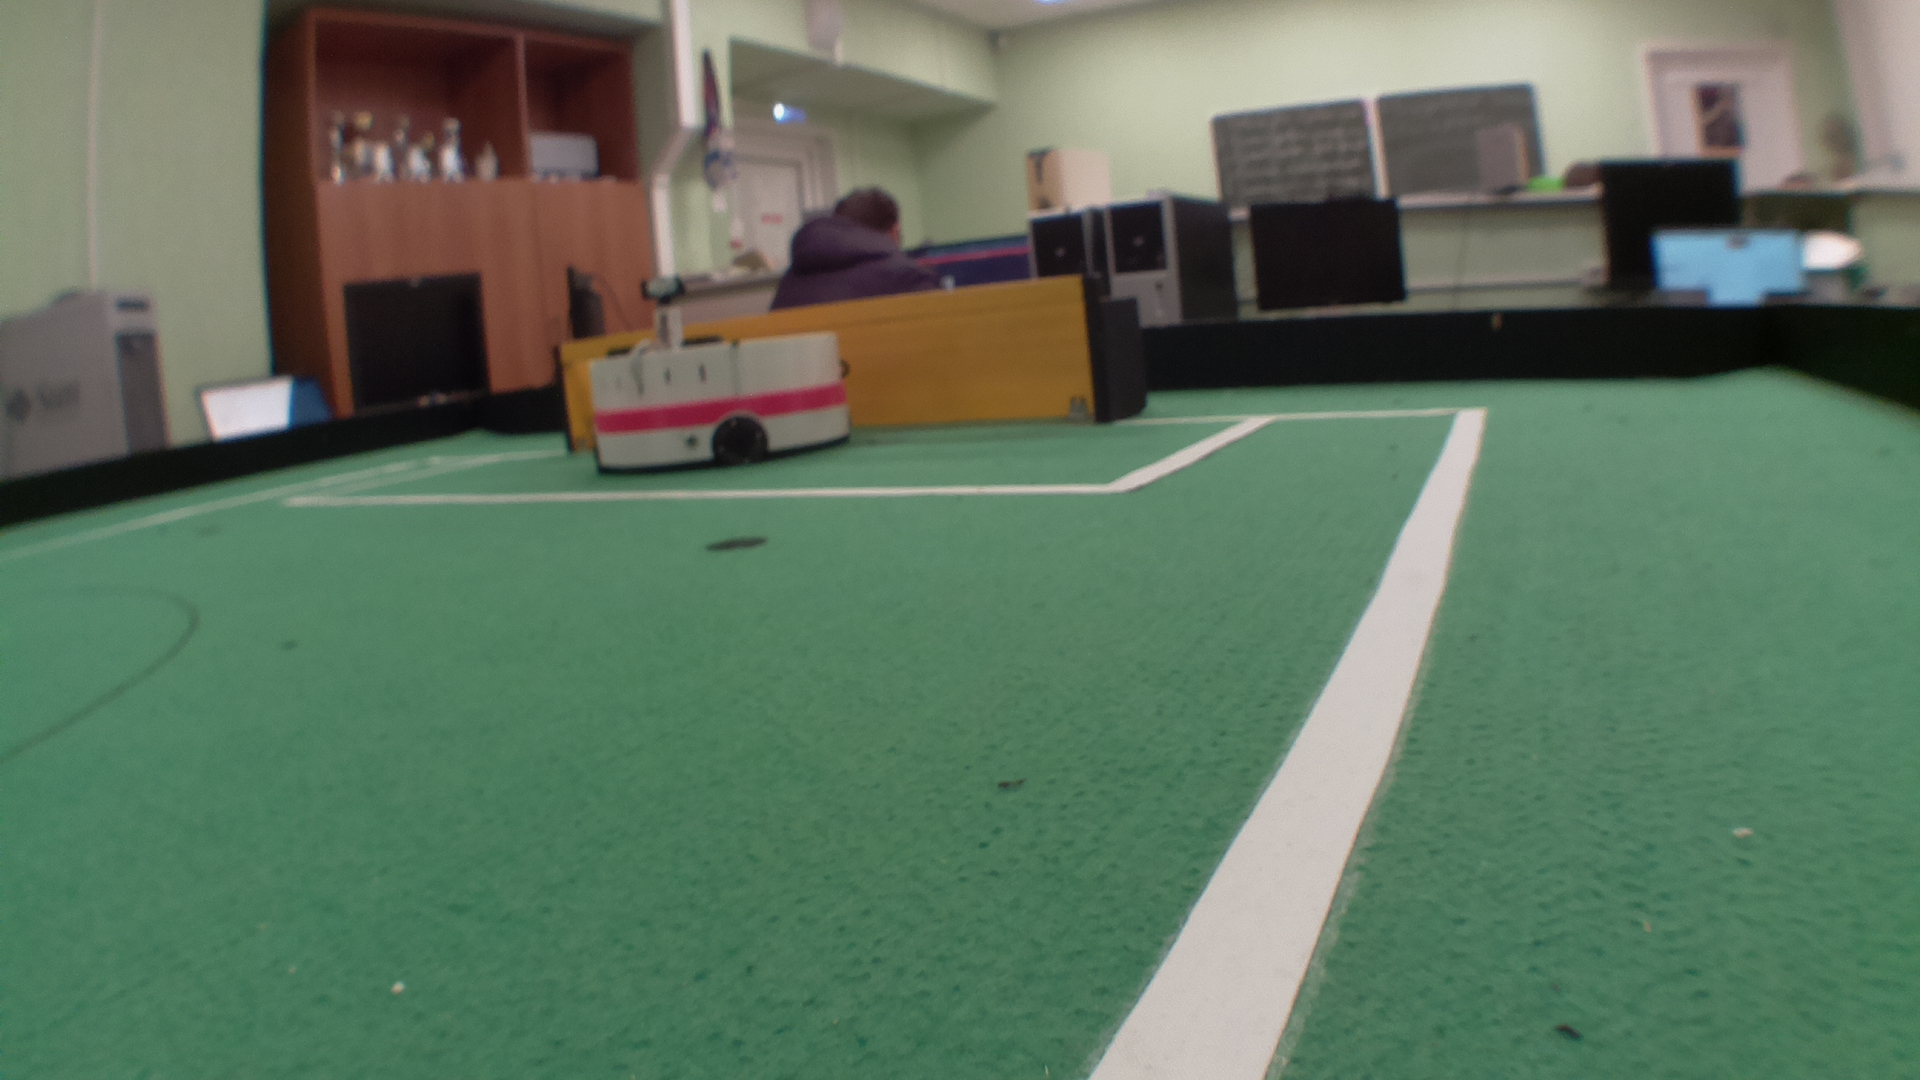YellowGoal: (556, 287, 1091, 458)
